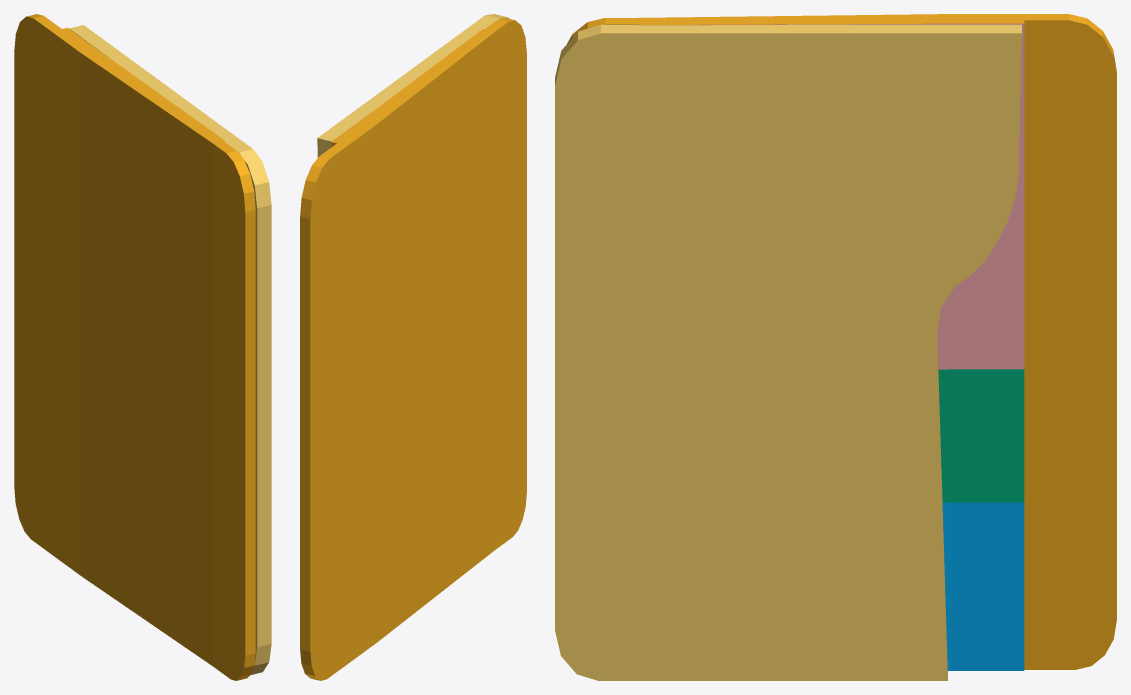
File: carpeta.fbx
3 renders of one model, left to right at view 1: azimuth 30°, elevation 25°; view 2: azimuth 150°, elevation 25°; view 3: azimuth 270°, elevation 25°, orthographic. The views are drawn at different scales.
Visible parts, largest first — view 1: carpeta; view 2: carpeta; view 3: carpeta.
Boxes of the visible parts, x1,y1,x2,y2 form: carpeta: [14, 14, 271, 680]; carpeta: [300, 14, 526, 680]; carpeta: [555, 14, 1116, 680].
Bounding box in the file's own units: 28.94 × 464 × 364.
